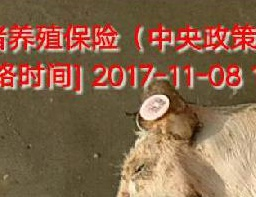text: (127, 84, 183, 127)
